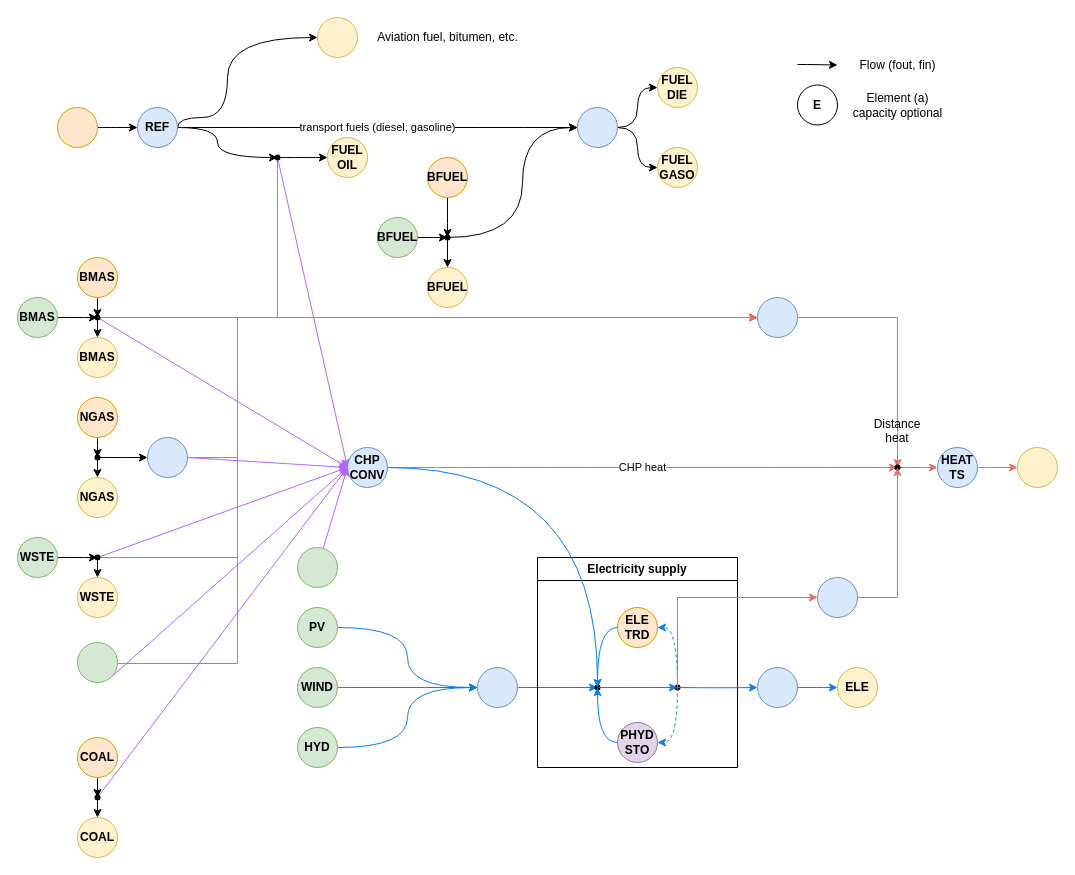
The diagram is 1075 pixels wide and 875 high, and some of its shapes have lost their labels. Here are the shapes that lost their labels. From the top down, the box of each, then its label:
(316, 16, 358, 58): REF OTHR
(56, 106, 98, 148): CRUD
(576, 106, 618, 148): FUEL BLEND
(256, 136, 298, 178): fuel: oil
(426, 216, 468, 258): biofuel
(756, 296, 798, 338): HEAT CONV
(146, 436, 188, 478): NGAS TS
(1016, 446, 1058, 488): HEAT
(296, 546, 338, 588): URAN
(816, 576, 858, 618): HEAT PUMP
(76, 642, 118, 682): BGAS
(476, 666, 518, 708): ELE CONV
(756, 666, 798, 708): ELE TS
